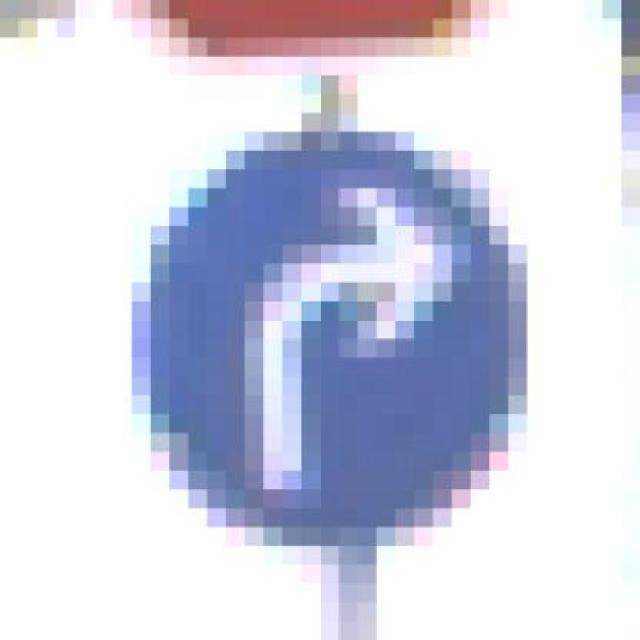Turn right ahead: (112, 93, 565, 564)
